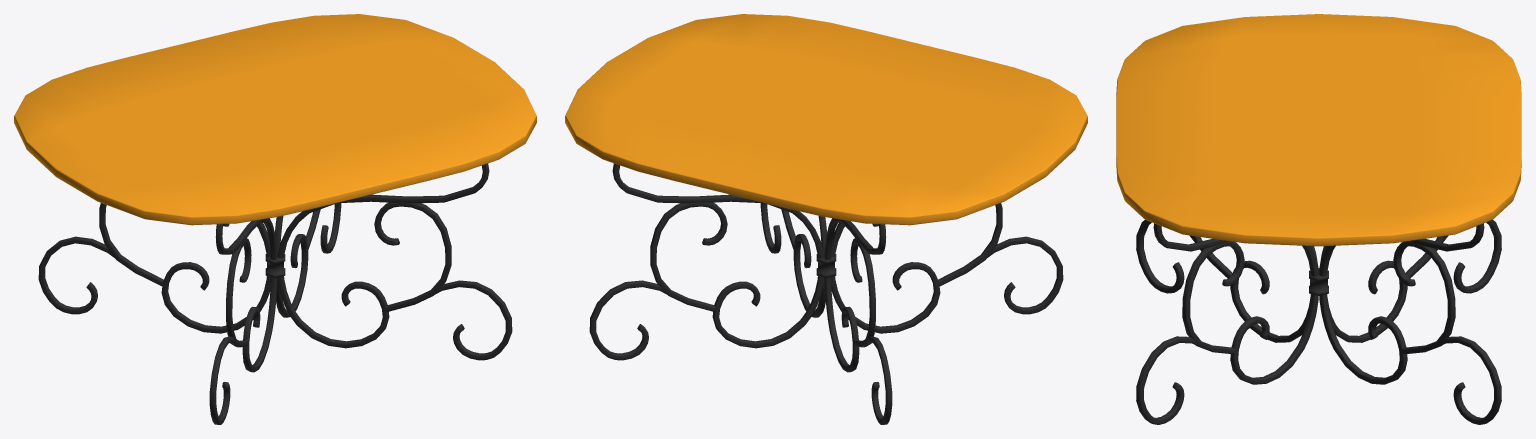
Rendered from Table_2_HP.fbx.
The picture shows the model from 3 angles, left to right: view 1: azimuth 30°, elevation 25°; view 2: azimuth 150°, elevation 25°; view 3: azimuth 270°, elevation 25°; orthographic projection. The views are drawn at different scales.
Visible parts, largest first — view 1: Plane, BézierCurve.006; view 2: Plane, BézierCurve.006; view 3: Plane, BézierCurve.006, Cylinder.006.
Boxes of the visible parts, x1=… form: Plane: x1=14, y1=14, x2=536, y2=225; BézierCurve.006: x1=38, y1=163, x2=512, y2=424; Plane: x1=565, y1=14, x2=1087, y2=225; BézierCurve.006: x1=589, y1=163, x2=1063, y2=424; Plane: x1=1116, y1=14, x2=1521, y2=246; BézierCurve.006: x1=1136, y1=220, x2=1501, y2=424; Cylinder.006: x1=1309, y1=268, x2=1328, y2=295.
Size of the model in its own units: 133 by 64.96 by 102.
